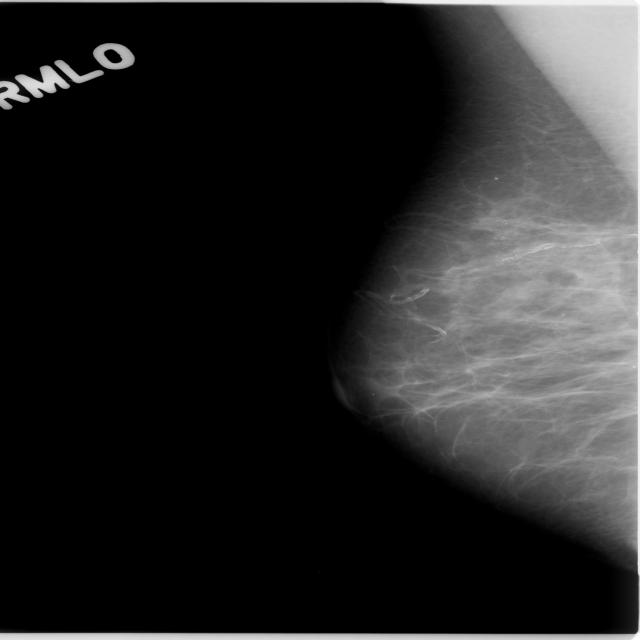cancer: (341, 164, 640, 451)
